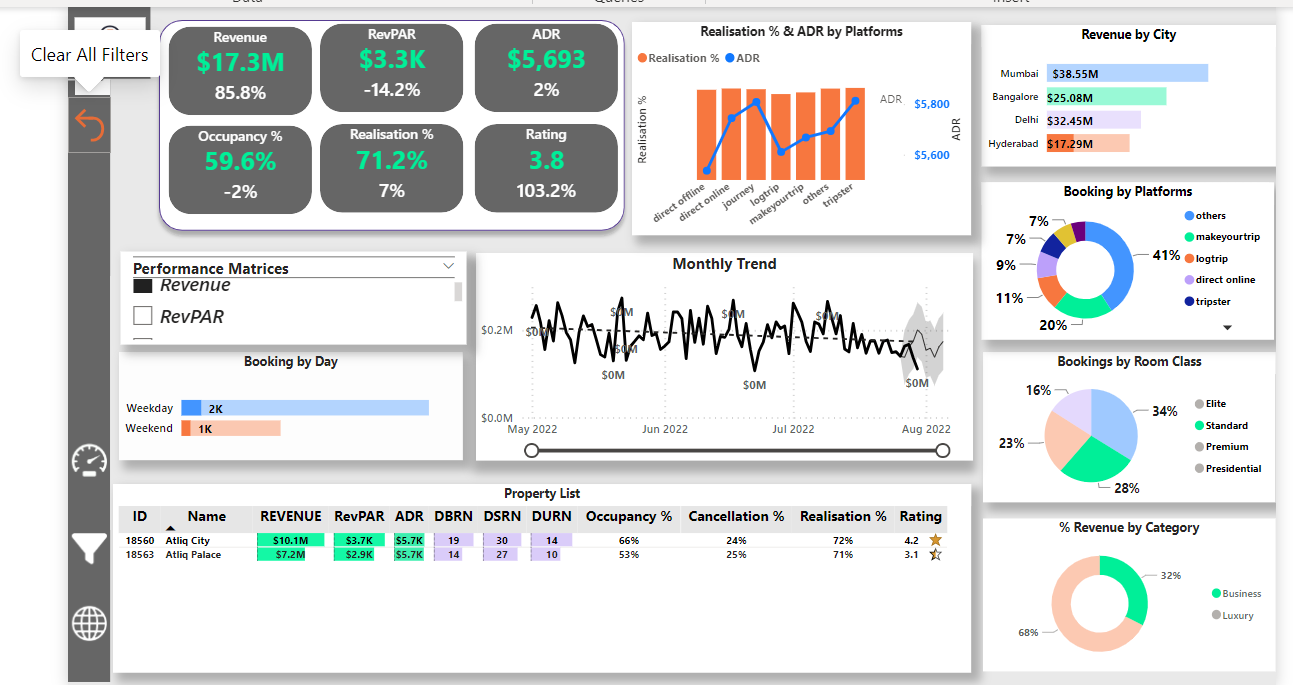

This screenshot's page, from the dashboard's own definition file:
{"tool":"powerbi","page":{"name":"Dashboard","canvas":[1280,720],"ordinal":0},"visuals":[{"type":"shape","title":"logo BG","box":[0,0,87.4,76.3],"z":0,"group":"g8"},{"type":"shape","title":"KPI paneWhite BG","box":[87.4,4.8,511.3,241.1],"z":0,"group":"g9"},{"type":"shape","title":"5card BG","box":[267,18.2,152.1,93.8],"z":0,"group":"g4"},{"type":"shape","title":"5card BG","box":[430.4,18.2,152.1,93.8],"z":0,"group":"g2"},{"type":"shape","title":"5card BG","box":[106.8,21.5,152.1,93.8],"z":0,"group":"g1"},{"type":"shape","title":"5card BG","box":[267,125,152.1,93.8],"z":0,"group":"g5"},{"type":"shape","title":"5card BG","box":[430.4,125,152.1,93.8],"z":0,"group":"g6"},{"type":"shape","title":"5card BG","box":[106.8,126.6,152.1,93.8],"z":0,"group":"g3"},{"type":"lineChart","title":"Monthly Trend","fields":{"Y":["All Measures.Revenue"],"Category":["dim_date.date.Variation.Date Hierarchy.Year","dim_date.date.Variation.Date Hierarchy.Month","dim_date.date.Variation.Date Hierarchy.Day"]},"box":[431.7,259.4,526.7,220],"z":0,"group":"g7"},{"type":"tableEx","title":"Property List","fields":{"Values":["dim_hotels.property_id","dim_hotels.property_name","All Measures.Revenue","All Measures.RevPAR","All Measures.ADR","All Measures.DBRN","All Measures.DSRN","All Measures.DURN","All Measures.Occupancy %","All Measures.Cancellation %","All Measures.Realisation %","All Measures.Average Rating"]},"box":[47.7,505.4,909.1,200.3],"z":0},{"type":"image","title":" # AtliQ Logo","box":[1.2,0.8,85.8,73.1],"z":1000,"group":"g8"},{"type":"group","id":"g1","title":"# KPI card","box":[106.8,21,152.1,95.5],"z":1000,"group":"g9"},{"type":"card","title":"Revenur WOW %","fields":{"Values":["All Measures.\"RevPAR WoW change %"]},"box":[267.5,64.6,152.1,46.9],"z":1000,"group":"g4"},{"type":"card","title":"Revenur WOW %","fields":{"Values":["All Measures.\"ADR WoW change %"]},"box":[430.9,64.6,152.1,46.9],"z":1000,"group":"g2"},{"type":"card","title":"Revenur WOW %","fields":{"Values":["All Measures.\"Revenue WoW change %"]},"box":[107.3,67.9,152.1,46.9],"z":1000,"group":"g1"},{"type":"card","title":"Rating ","fields":{"Values":["All Measures.Average Rating"]},"box":[430.9,124.5,152.1,56.6],"z":1000,"group":"g6"},{"type":"card","title":"Revenur WOW %","fields":{"Values":["All Measures.\"Realisation WoW change %"]},"box":[267.5,171.4,152.1,46.9],"z":1000,"group":"g5"},{"type":"card","title":"Revenur WOW %","fields":{"Values":["All Measures.\"Occupancy WoW change %"]},"box":[107.3,173,152.1,46.9],"z":1000,"group":"g3"},{"type":"slicer","fields":{"Values":["Booking Matrices.Booking Matrices"]},"box":[55,258.3,366.7,98.3],"z":1000,"group":"g7"},{"type":"card","title":"RevPAR","fields":{"Values":["All Measures.RevPAR"]},"box":[267.5,17.7,152.1,56.6],"z":2000,"group":"g4"},{"type":"group","id":"g2","title":"# KPI card","box":[430.4,17.7,152.1,95.5],"z":2000,"group":"g9"},{"type":"card","title":"ADR","fields":{"Values":["All Measures.ADR"]},"box":[430.9,17.7,152.1,56.6],"z":2000,"group":"g2"},{"type":"card","title":"Revenue","fields":{"Values":["All Measures.Revenue"]},"box":[107.3,21,152.1,56.6],"z":2000,"group":"g1"},{"type":"card","title":"Realisation %","fields":{"Values":["All Measures.Realisation %"]},"box":[267.5,124.5,152.1,56.6],"z":2000,"group":"g5"},{"type":"card","title":"Occupancy %","fields":{"Values":["All Measures.Occupancy %"]},"box":[107.3,126.1,152.1,56.6],"z":2000,"group":"g3"},{"type":"card","title":"Rating WOW %","fields":{"Values":["All Measures.\"Rating WoW change %"]},"box":[430.4,171.4,152.1,46.9],"z":2000,"group":"g6"},{"type":"pieChart","title":"Bookings by Room Class","fields":{"Category":["dim_rooms.room_class"],"Y":["All Measures.Total Bookings"]},"box":[968.9,365.6,309.8,159],"z":2000},{"type":"clusteredBarChart","title":"Revenue by City","fields":{"Category":["dim_hotels.city"],"Y":["All Measures.Revenue"]},"box":[967.9,22.3,311.5,149.4],"z":3000},{"type":"group","id":"g3","title":"# KPI card","box":[106.8,126.1,152.1,95.5],"z":3000,"group":"g9"},{"type":"group","id":"g4","title":"# KPI card","box":[267,17.7,152.1,95.5],"z":4000,"group":"g9"},{"type":"donutChart","title":"Booking by Platforms","fields":{"Category":["fact_bookings.booking_platform"],"Y":["All Measures.Total Bookings"]},"box":[969.5,182.8,309.9,166.9],"z":4000},{"type":"shape","title":"Navigation bar BG","box":[0,77.9,44.5,637.4],"z":5000},{"type":"group","id":"g5","title":"# KPI card","box":[267,124.5,152.1,95.5],"z":5000,"group":"g9"},{"type":"actionButton","title":"reset button ","box":[0,95.4,46.1,58.8],"z":6000},{"type":"group","id":"g6","title":"# KPI card","box":[430.4,124.5,152.6,94.4],"z":6000,"group":"g9"},{"type":"clusteredBarChart","title":"Booking by Day","fields":{"Y":["All Measures.Total Bookings"],"Category":["dim_date.Day Type #DAX"]},"box":[55.6,365.6,364,114.4],"z":7000},{"type":"actionButton","title":"navi pane - map icon ","box":[0,619.7,45.3,66.3],"z":8000},{"type":"actionButton","title":"navi pane - filter icon ","box":[0,550.2,45.3,48.5],"z":9000},{"type":"group","id":"g7","title":"# Trend line graph","box":[55,258.3,903.3,221.7],"z":10000},{"type":"lineStackedColumnComboChart","title":"Realisation % & ADR by Platforms","fields":{"Category":["fact_bookings.booking_platform"],"Y":["All Measures.Realisation %"],"Y2":["All Measures.ADR"]},"box":[598.4,16.4,359,226.2],"z":11000},{"type":"donutChart","title":"% Revenue by Category","fields":{"Category":["dim_hotels.category"],"Y":["All Measures.Revenue"]},"box":[968.9,542.6,309.8,162.3],"z":12000},{"type":"group","id":"g8","title":"# LOGO","box":[0,0,87.4,76.3],"z":13000},{"type":"group","id":"g9","title":"# KPIs","box":[87.4,4.8,511.8,240],"z":14000},{"type":"actionButton","box":[0,443.3,45,73.3],"z":17000}]}

Visuals, with their boxes on the page's 1280x720 design canvas (x1, y1, x2, y2). These are canvas units, not pixel positions in the 1293x685 screenshot, which may show the page scaled, cropped or inside an application window:
"logo BG" shape: region(0, 0, 87, 76)
"KPI paneWhite BG" shape: region(87, 5, 599, 246)
"5card BG" shape: region(267, 18, 419, 112)
"5card BG" shape: region(430, 18, 582, 112)
"5card BG" shape: region(107, 22, 259, 115)
"5card BG" shape: region(267, 125, 419, 219)
"5card BG" shape: region(430, 125, 582, 219)
"5card BG" shape: region(107, 127, 259, 220)
"Monthly Trend" lineChart: region(432, 259, 958, 479)
"Property List" tableEx: region(48, 505, 957, 706)
" # AtliQ Logo" image: region(1, 1, 87, 74)
"# KPI card" group: region(107, 21, 259, 116)
"Revenur WOW %" card: region(268, 65, 420, 112)
"Revenur WOW %" card: region(431, 65, 583, 112)
"Revenur WOW %" card: region(107, 68, 259, 115)
"Rating " card: region(431, 124, 583, 181)
"Revenur WOW %" card: region(268, 171, 420, 218)
"Revenur WOW %" card: region(107, 173, 259, 220)
slicer - Booking Matrices.Booking Matrices: region(55, 258, 422, 357)
"RevPAR" card: region(268, 18, 420, 74)
"# KPI card" group: region(430, 18, 582, 113)
"ADR" card: region(431, 18, 583, 74)
"Revenue" card: region(107, 21, 259, 78)
"Realisation %" card: region(268, 124, 420, 181)
"Occupancy %" card: region(107, 126, 259, 183)
"Rating WOW %" card: region(430, 171, 582, 218)
"Bookings by Room Class" pieChart: region(969, 366, 1279, 525)
"Revenue by City" clusteredBarChart: region(968, 22, 1279, 172)
"# KPI card" group: region(107, 126, 259, 222)
"# KPI card" group: region(267, 18, 419, 113)
"Booking by Platforms" donutChart: region(970, 183, 1279, 350)
"Navigation bar BG" shape: region(0, 78, 44, 715)
"# KPI card" group: region(267, 124, 419, 220)
"reset button " actionButton: region(0, 95, 46, 154)
"# KPI card" group: region(430, 124, 583, 219)
"Booking by Day" clusteredBarChart: region(56, 366, 420, 480)
"navi pane - map icon " actionButton: region(0, 620, 45, 686)
"navi pane - filter icon " actionButton: region(0, 550, 45, 599)
"# Trend line graph" group: region(55, 258, 958, 480)
"Realisation % & ADR by Platforms" lineStackedColumnComboChart: region(598, 16, 957, 243)
"% Revenue by Category" donutChart: region(969, 543, 1279, 705)
"# LOGO" group: region(0, 0, 87, 76)
"# KPIs" group: region(87, 5, 599, 245)
actionButton: region(0, 443, 45, 517)
